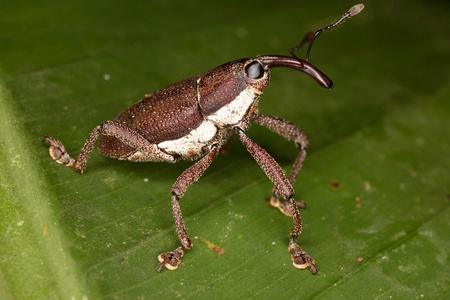Curculionidae: (39, 2, 365, 275)
